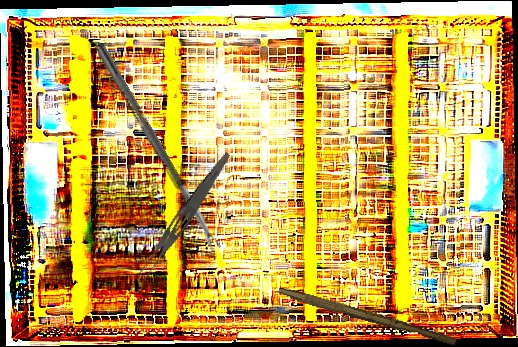Dressing Forceps: (134, 147, 234, 284)
Scalpel Handle: (276, 286, 458, 347)
Surgical Spoon: (93, 42, 221, 253)
